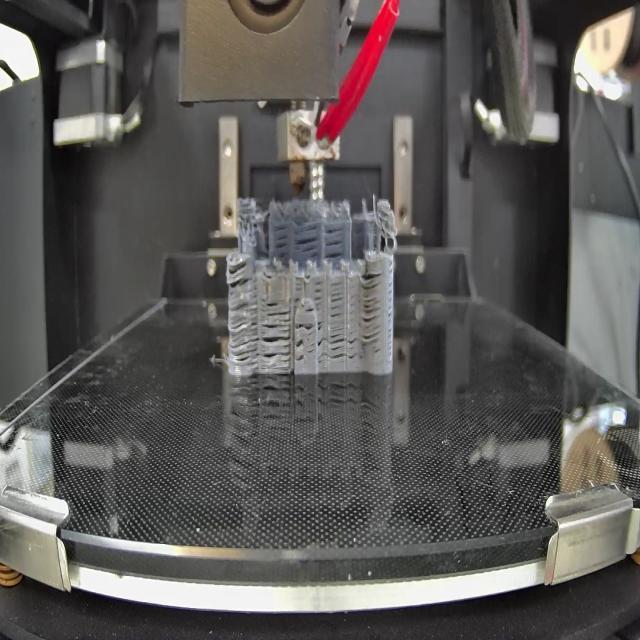cracks: (230, 299, 258, 366), (361, 269, 380, 346), (261, 323, 290, 370), (330, 327, 359, 362), (294, 222, 322, 256), (325, 219, 346, 263), (226, 257, 254, 286), (270, 224, 290, 258), (266, 295, 291, 319), (329, 283, 346, 318), (318, 319, 326, 361), (293, 274, 303, 302), (295, 338, 305, 364), (314, 279, 323, 305), (294, 320, 314, 330), (303, 304, 316, 314)
